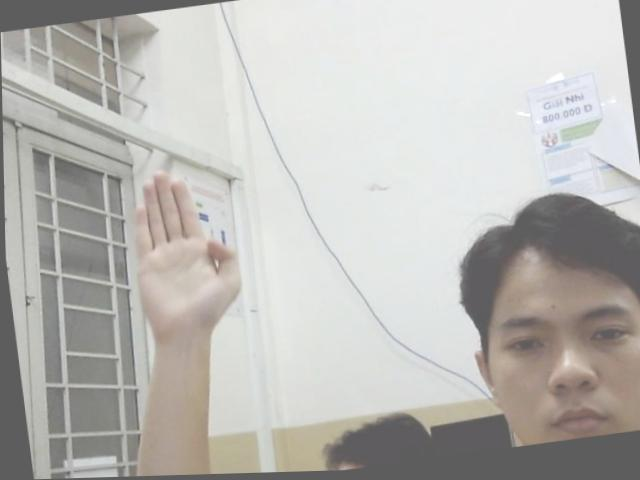B: (120, 165, 250, 343)
